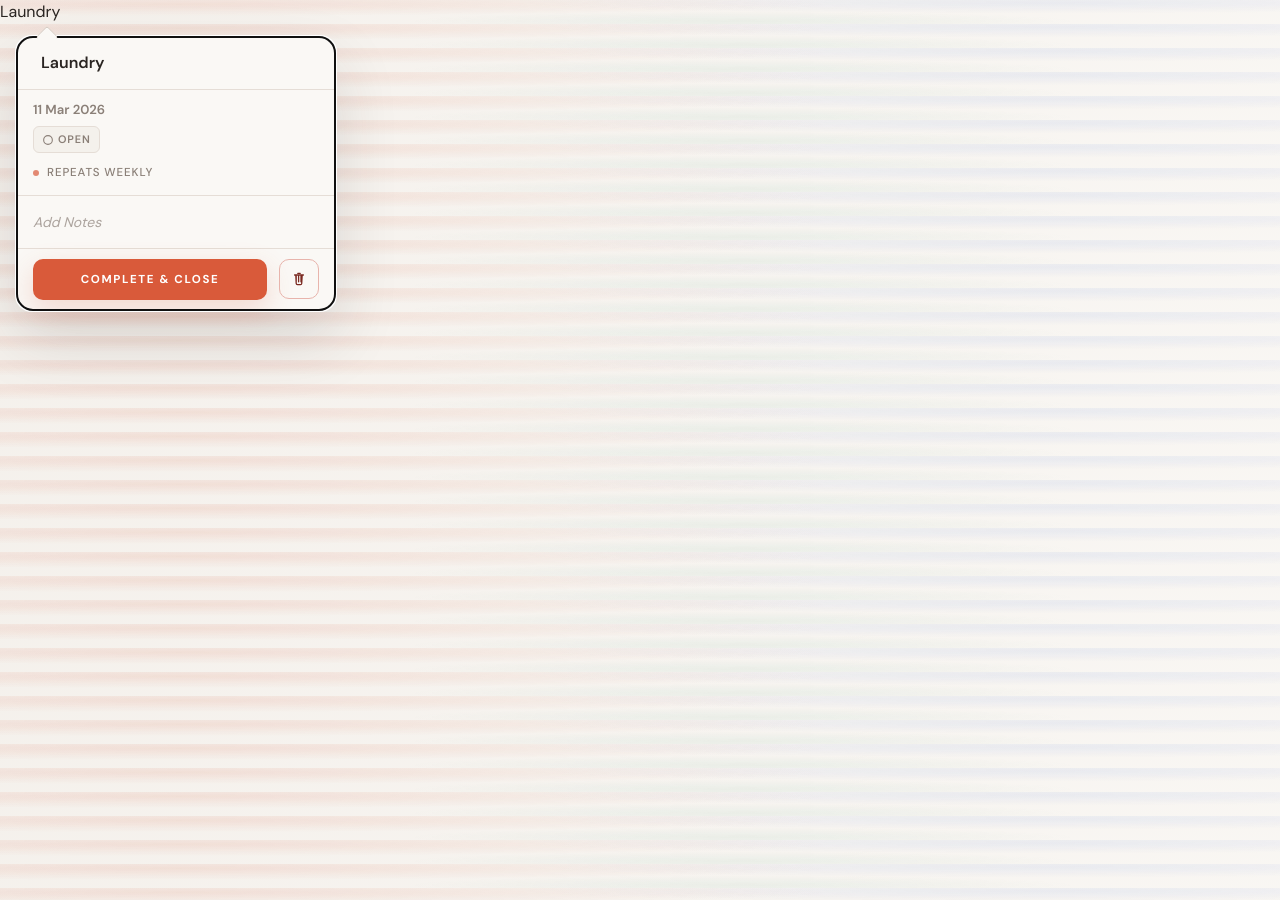
Test: chore popover interactions › offers whole-series delete from a mid-series repeating chore
Click the button named "Delete chore" at (299, 279), box [279, 259, 319, 299]
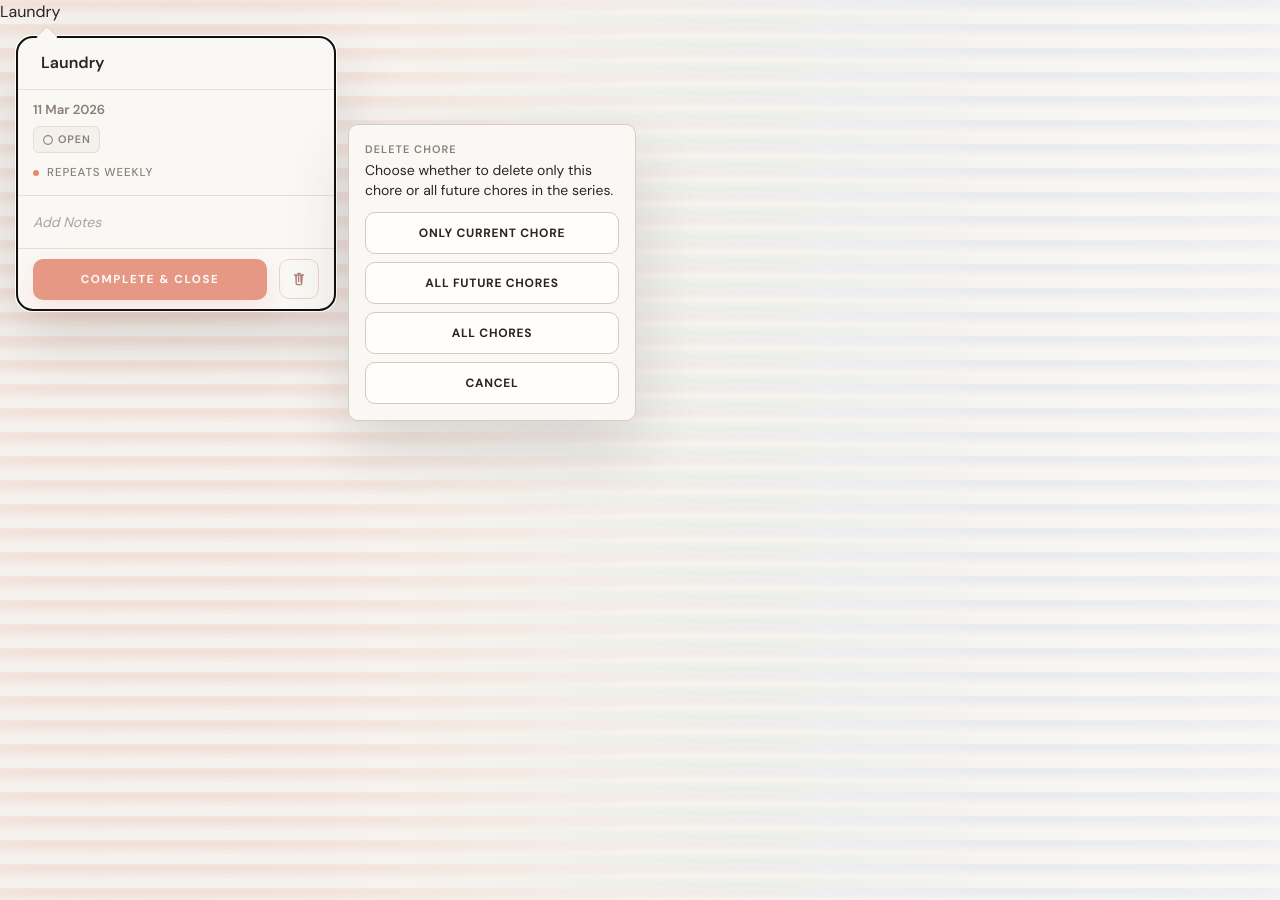
Expected: the text "all future chores" is shown, [365, 161, 613, 199]
Expected: the text "All chores" is shown, [365, 312, 619, 354]
